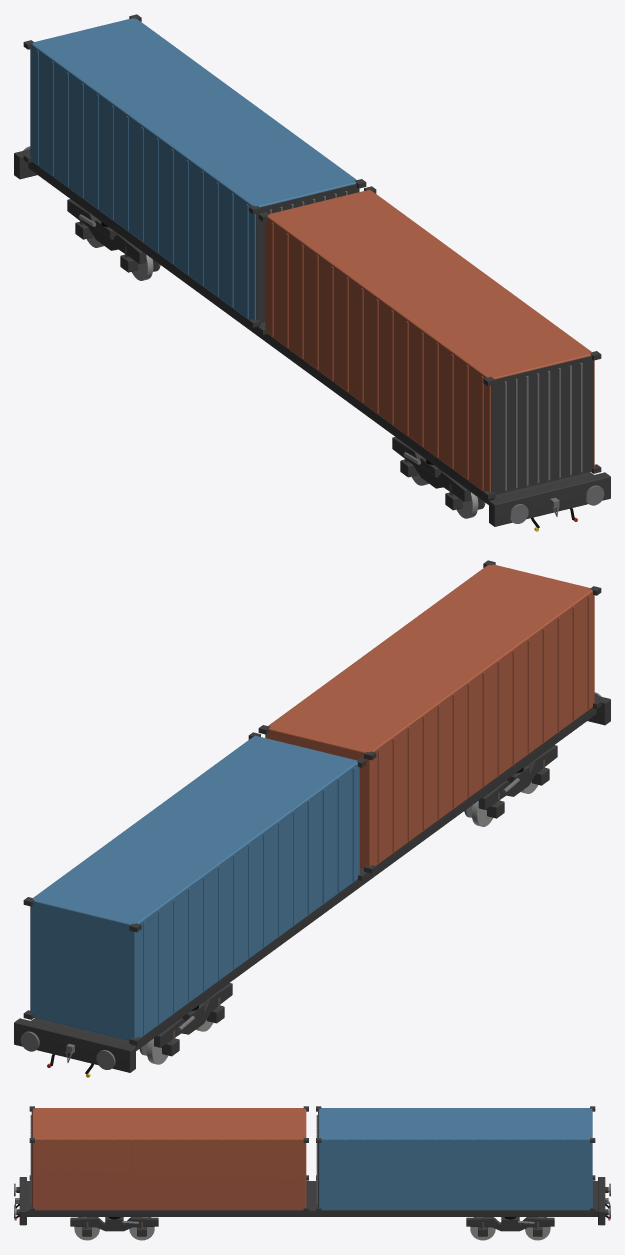
File: rail.train.wagon_box.glb
The picture shows the model from 3 angles, top to bottom: view 1: azimuth 30°, elevation 25°; view 2: azimuth 150°, elevation 25°; view 3: azimuth 270°, elevation 25°; orthographic projection. The views are drawn at different scales.
Visible parts, largest first — view 1: main__paint_b64, main__paint_58a, main__paint_444, main__galv_777, main__steel_444, main__galv_999; view 2: main__paint_58a, main__paint_b64, main__paint_444, main__steel_444, main__galv_777, main__galv_999; view 3: main__paint_58a, main__paint_b64, main__paint_444, main__galv_999, main__steel_444, main__galv_777.
Boxes of the visible parts, x1,y1,x2,y2 form: main__paint_b64: (265, 189, 594, 494); main__paint_58a: (30, 18, 359, 322); main__paint_444: (23, 14, 601, 510); main__galv_777: (23, 146, 604, 523); main__steel_444: (14, 149, 610, 526); main__galv_999: (87, 235, 478, 518); main__paint_58a: (30, 735, 359, 1040); main__paint_b64: (265, 564, 594, 868); main__paint_444: (23, 560, 601, 1056); main__steel_444: (14, 695, 610, 1072); main__galv_777: (20, 692, 601, 1069); main__galv_999: (146, 781, 537, 1064); main__paint_58a: (318, 1108, 592, 1210); main__paint_b64: (32, 1108, 306, 1210); main__paint_444: (27, 1106, 597, 1236); main__galv_999: (74, 1217, 550, 1240); main__steel_444: (16, 1177, 608, 1225); main__galv_777: (14, 1115, 610, 1224).
Size of the model in its own units: 2.7 by 3.87 by 19.61.
